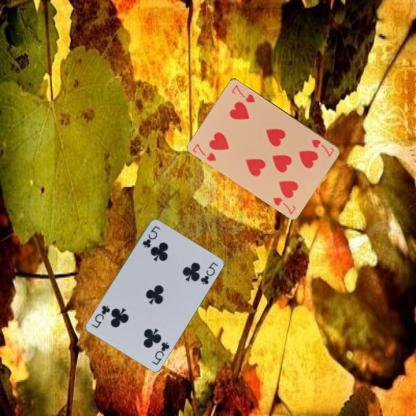5c: (149, 339, 171, 366), (140, 223, 162, 249)
7h: (309, 136, 336, 158), (190, 141, 218, 162)
